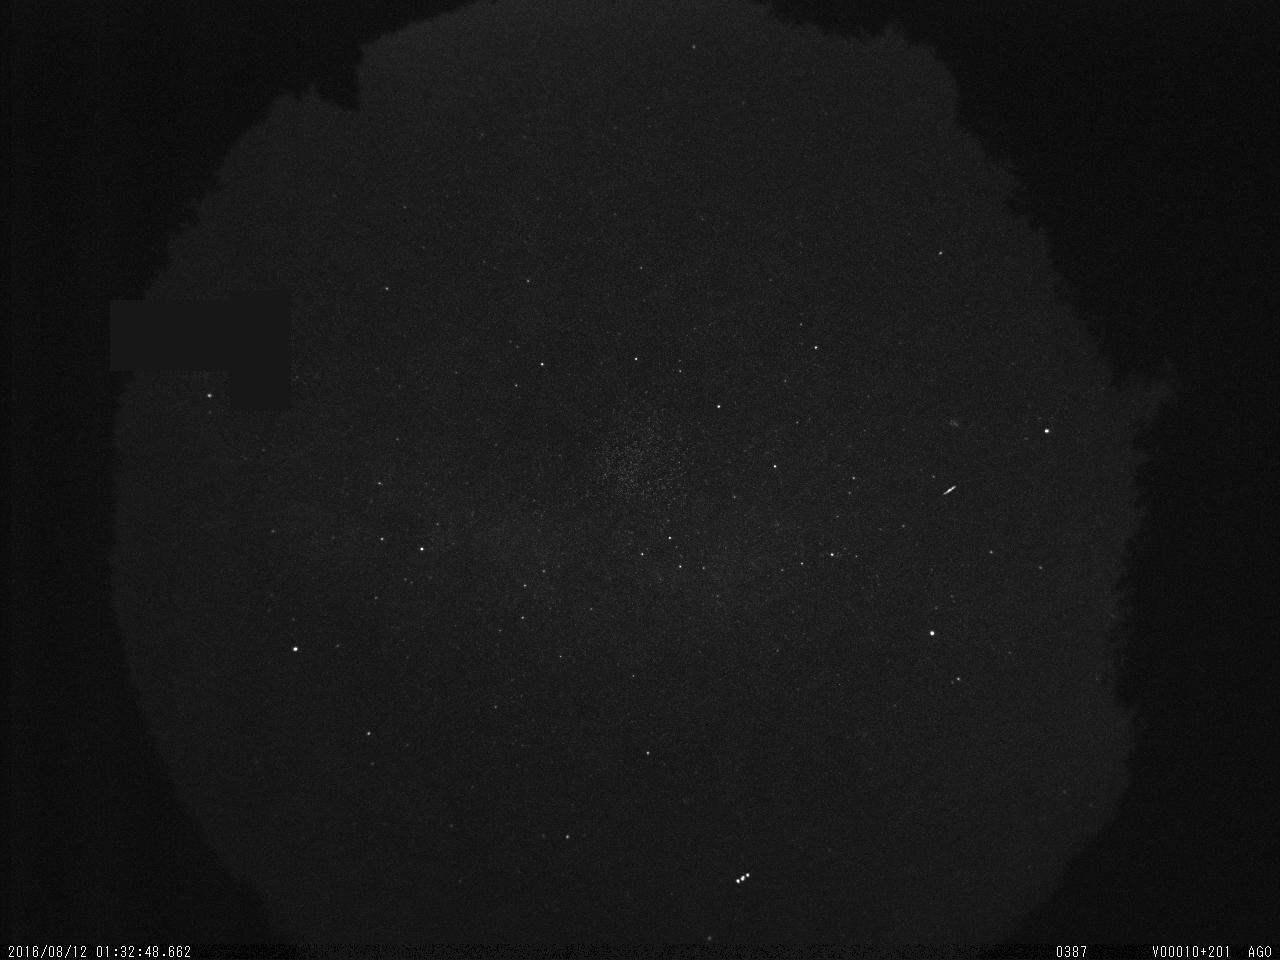meteor: (937, 477, 964, 504)
